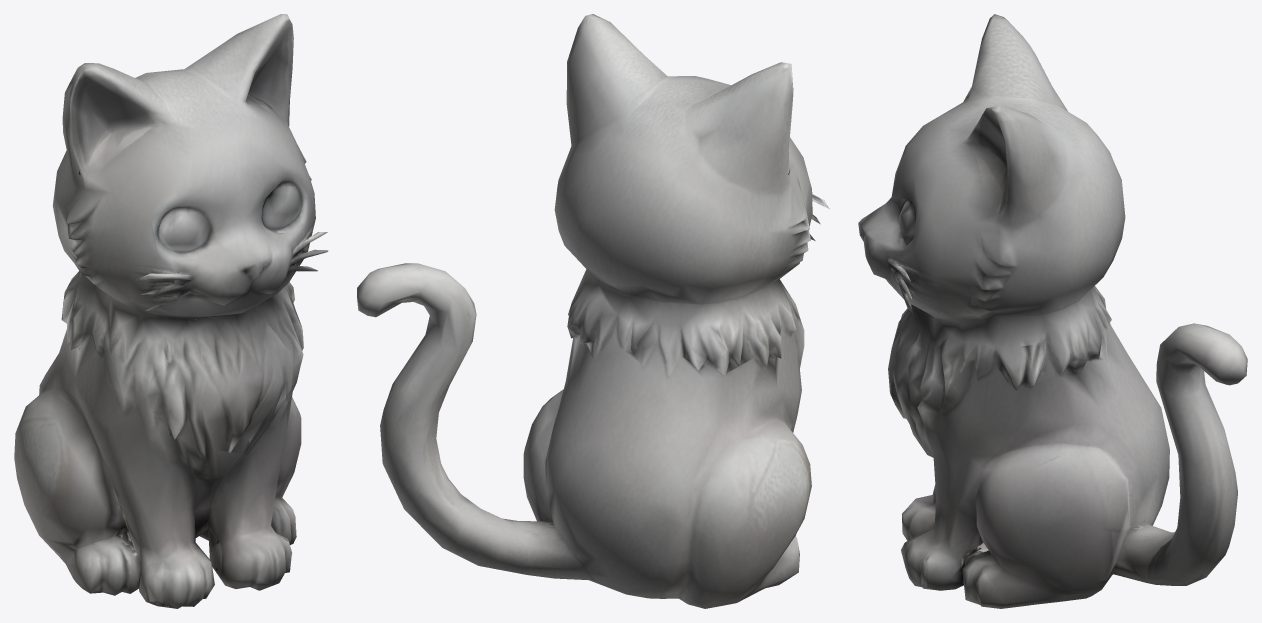
Rendered from Prop_VacuumCat.fbx.
The picture shows the model from 3 angles, left to right: view 1: azimuth 30°, elevation 25°; view 2: azimuth 150°, elevation 25°; view 3: azimuth 270°, elevation 25°; orthographic projection. The views are drawn at different scales.
Visible parts, largest first — view 1: Prop_VacuumCat_LOD0; view 2: Prop_VacuumCat_LOD0; view 3: Prop_VacuumCat_LOD0.
Part boxes in pixels (bbox=[...]): Prop_VacuumCat_LOD0: bbox=[14, 14, 328, 608]; Prop_VacuumCat_LOD0: bbox=[357, 14, 829, 608]; Prop_VacuumCat_LOD0: bbox=[858, 14, 1247, 608].
Size of what is drawn, in the model's own units: 0.4105 by 0.6 by 0.4173.
1 material, 1 textured.
